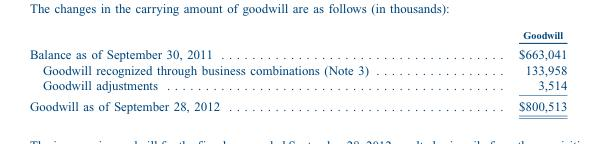table: (28, 28, 566, 112)
table column: (28, 28, 443, 112), (443, 28, 566, 112)
table column header: (28, 28, 566, 43)
table row: (28, 43, 566, 61), (28, 77, 566, 95), (28, 95, 566, 112), (28, 61, 566, 77), (28, 28, 566, 43)
